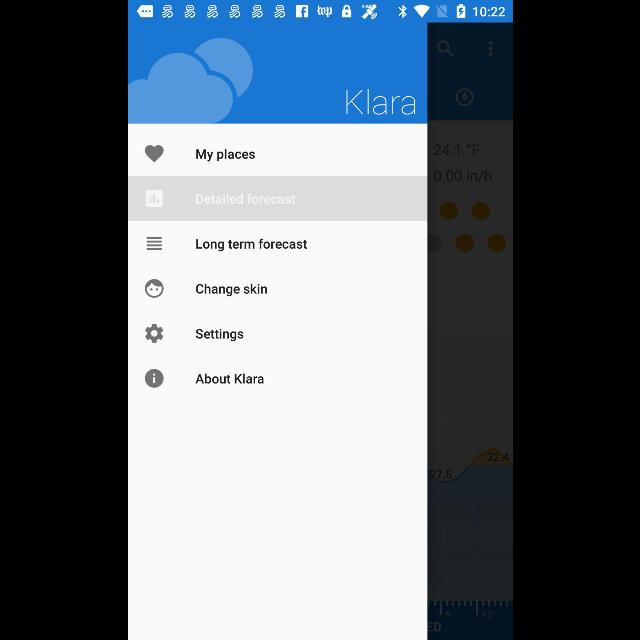icon: (144, 368, 164, 388), (144, 145, 164, 163), (145, 323, 163, 342), (144, 190, 162, 208), (146, 237, 162, 251)
image: (144, 280, 164, 298)
panel: (128, 22, 426, 640)
text: (346, 89, 414, 115), (196, 238, 306, 252), (195, 193, 295, 204), (196, 284, 266, 296), (196, 148, 254, 162), (194, 374, 264, 384), (195, 328, 243, 342)
uppertaskbar: (128, 1, 512, 23)
